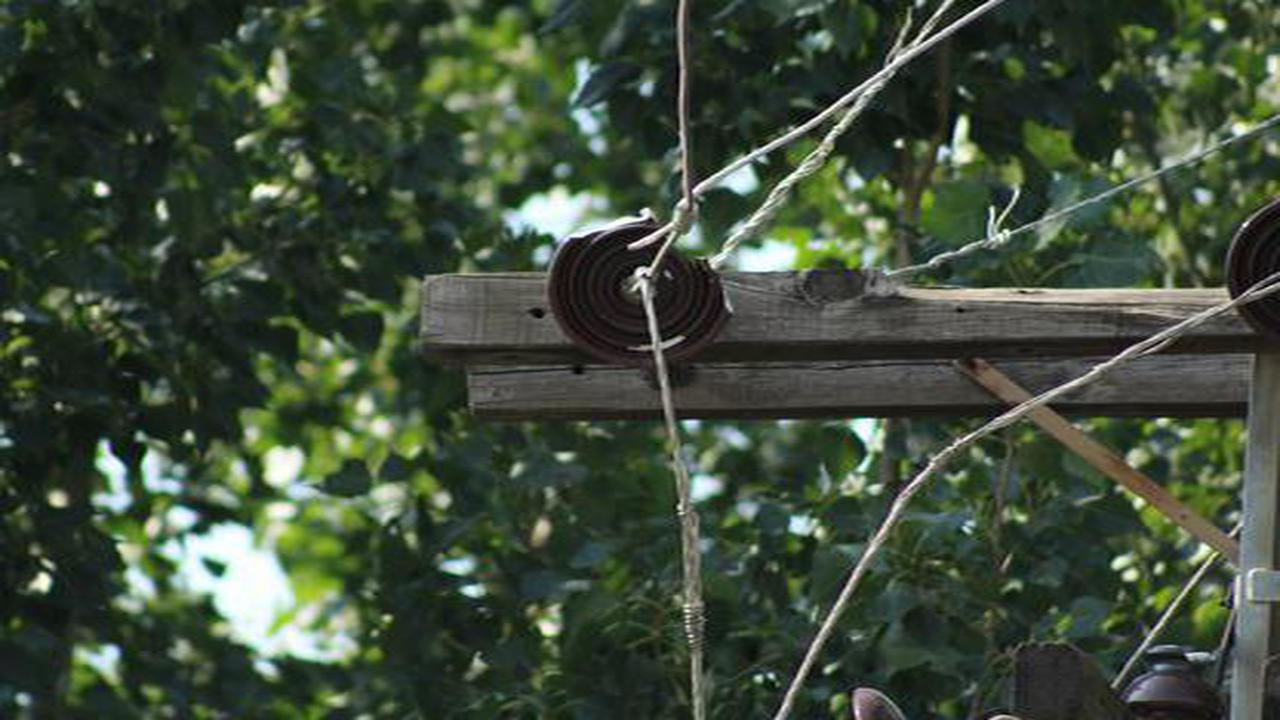defect_disc: (545, 206, 739, 374)
